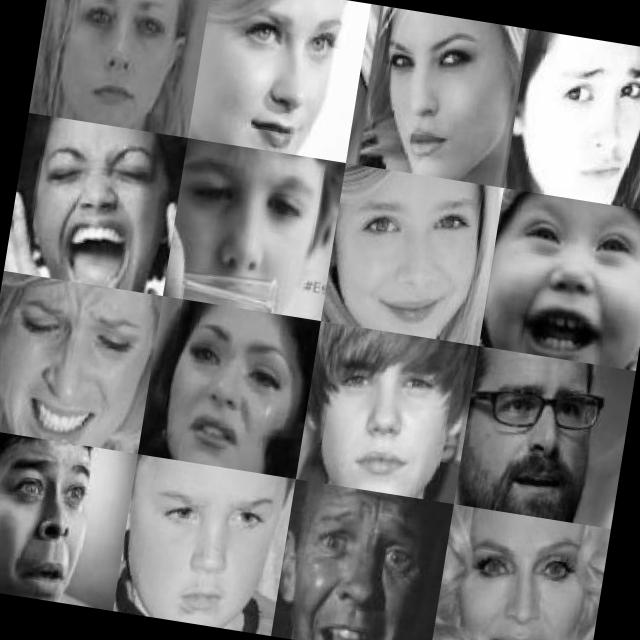angry: (131, 476, 282, 634), (286, 511, 430, 640)
fear: (166, 150, 322, 302), (0, 447, 102, 599)
happy: (329, 176, 490, 342), (487, 194, 640, 364), (25, 121, 173, 293), (197, 0, 352, 159), (451, 526, 600, 640)
neutral: (304, 332, 466, 498), (354, 15, 512, 184), (48, 0, 191, 131)
sad: (148, 312, 306, 478), (0, 280, 153, 448), (467, 354, 614, 516), (531, 55, 640, 199)
